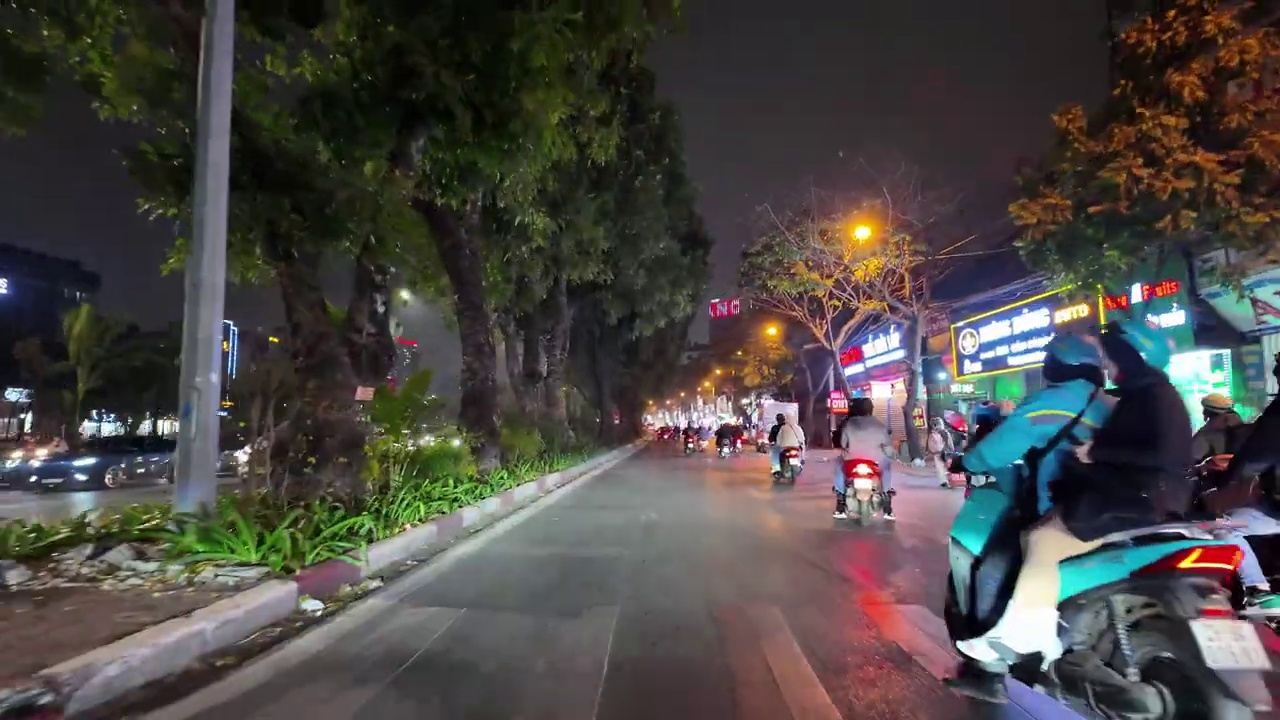acesa: (846, 217, 880, 248), (757, 320, 785, 347)
